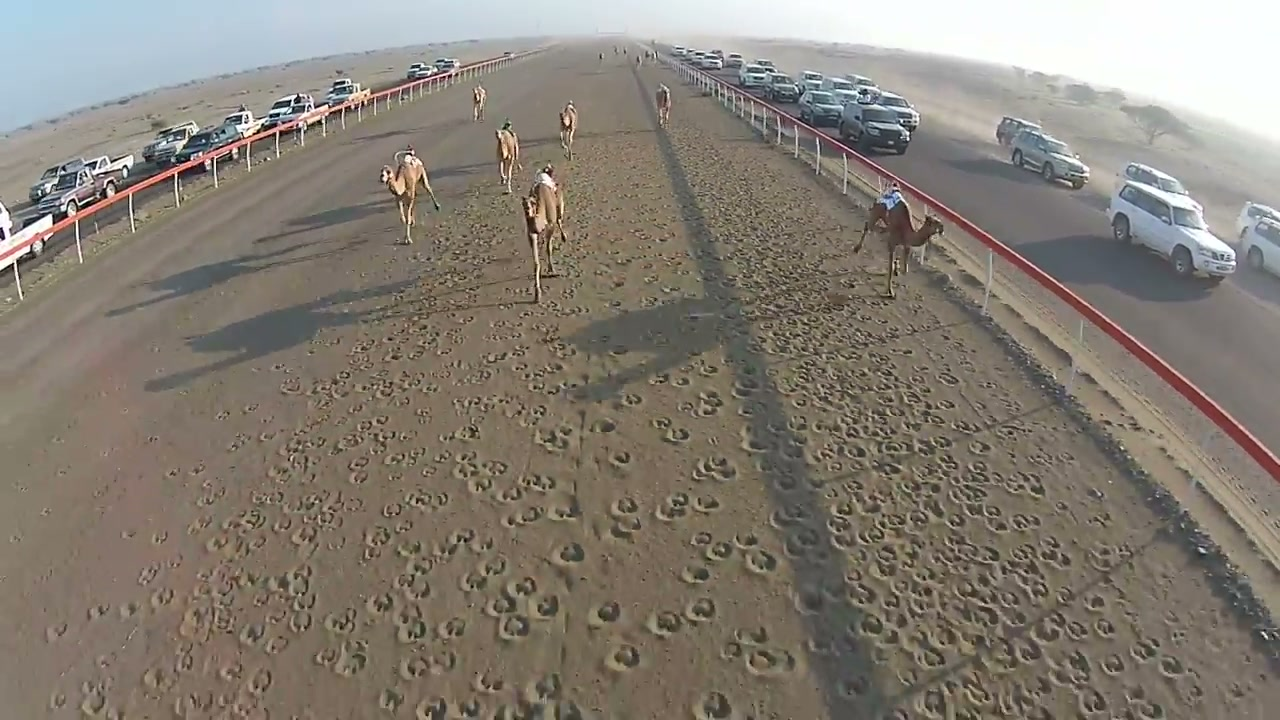animal_foot_print: (4, 51, 1279, 719), (732, 308, 1142, 687)
